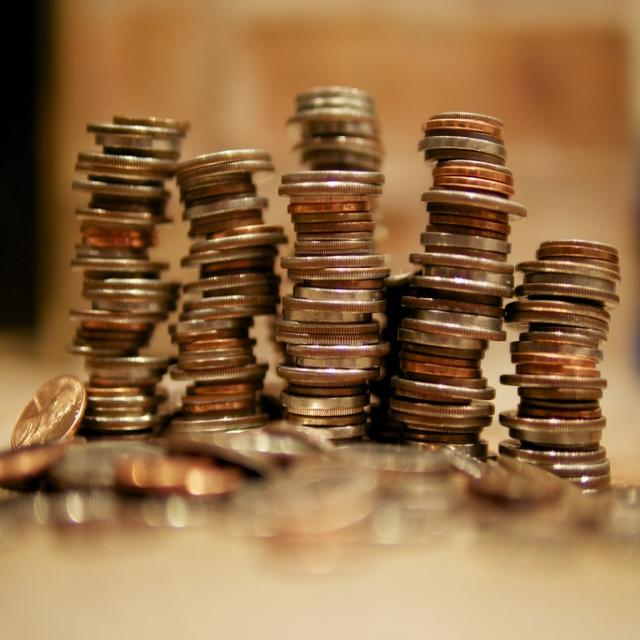Coin: (0, 86, 622, 500)
